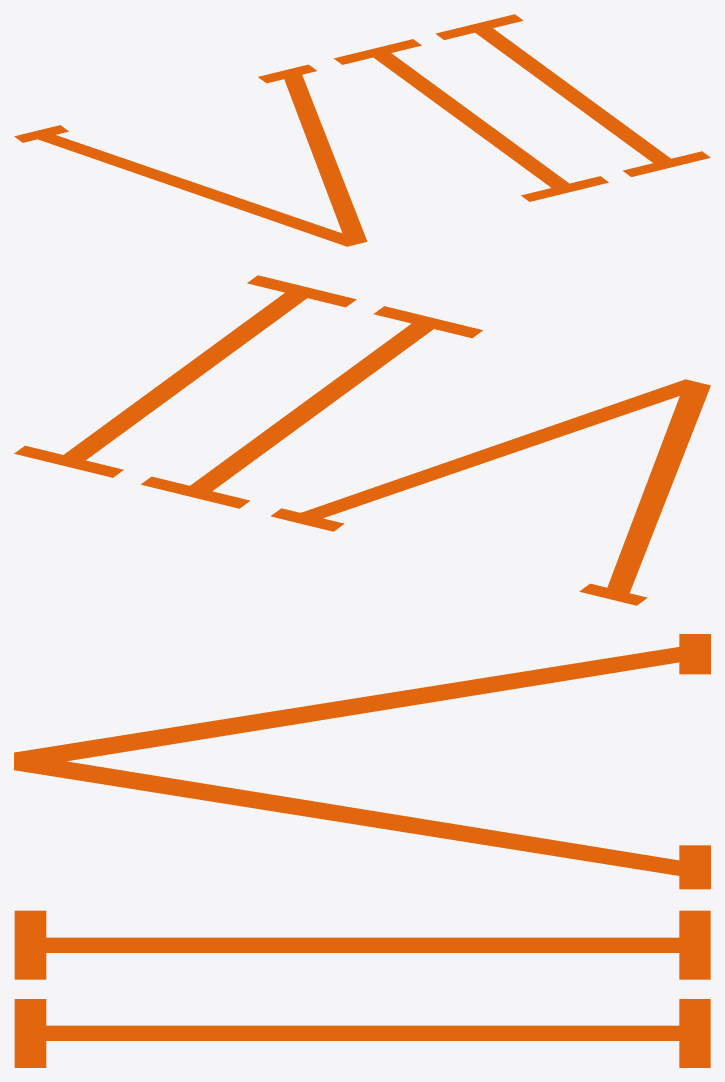
Rendered from seven.fbx.
3 views of the same model, one above another, from view 1: azimuth 30°, elevation 25°; view 2: azimuth 150°, elevation 25°; view 3: azimuth 270°, elevation 25° (orthographic). The views are drawn at different scales.
Parts seen in each view (by area): view 1: seven; view 2: seven; view 3: seven.
Part boxes in pixels (left/top/right/bottom): seven: left=14, top=14, right=710, bottom=246; seven: left=14, top=275, right=710, bottom=605; seven: left=14, top=634, right=710, bottom=1067.
Size of the model in its own units: 1.62 by 3.22e-07 by 1.1.
